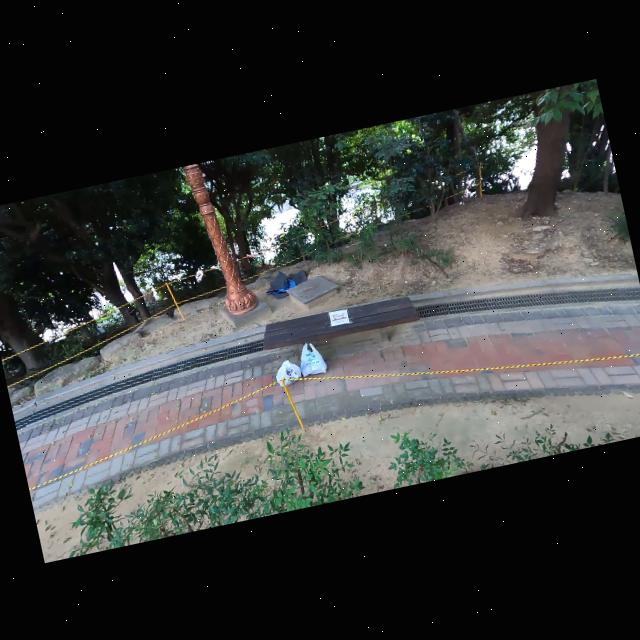trash: (260, 264, 310, 301), (295, 338, 328, 378), (272, 356, 304, 388)
